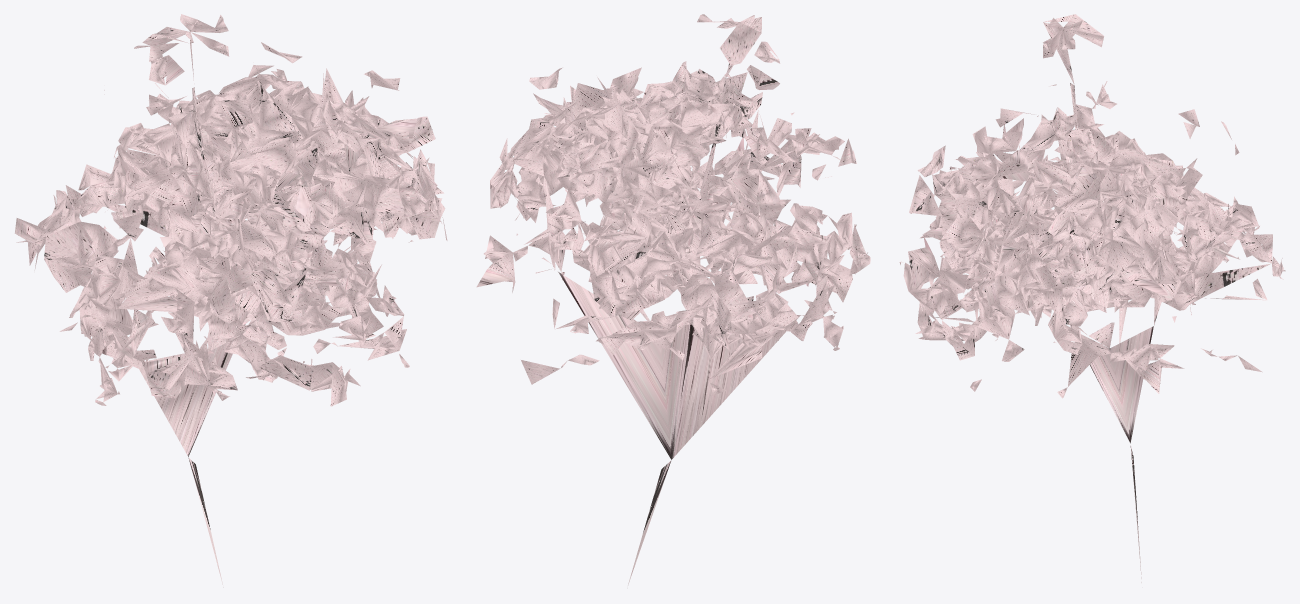
The model's file is lib_blossom.far.glb.
The picture shows the model from 3 angles, left to right: view 1: azimuth 30°, elevation 25°; view 2: azimuth 150°, elevation 25°; view 3: azimuth 270°, elevation 25°; orthographic projection. The views are drawn at different scales.
Visible parts, largest first — view 1: output_unwrapped; view 2: output_unwrapped; view 3: output_unwrapped.
Part boxes in pixels (x1,y1,x2,y2): output_unwrapped: (14,14,447,587); output_unwrapped: (476,14,870,585); output_unwrapped: (899,14,1285,582).
Size of the model in its own units: 1.18 by 1.96 by 1.28.
1 material, 1 textured.
